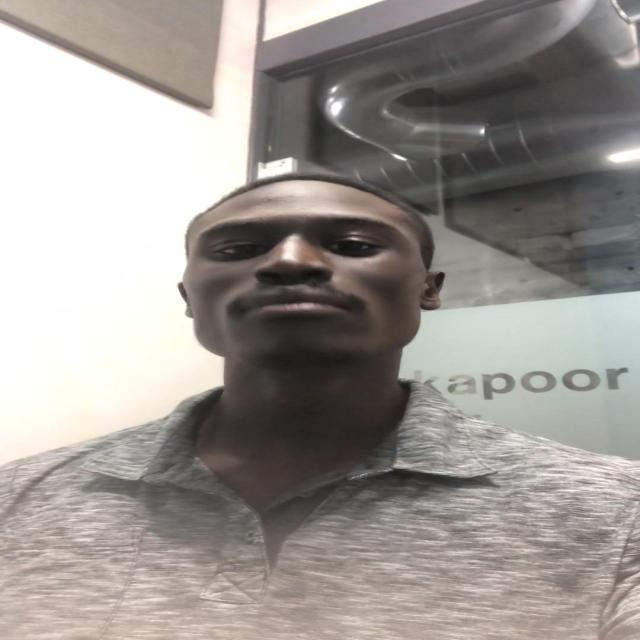face: (187, 187, 432, 360)
